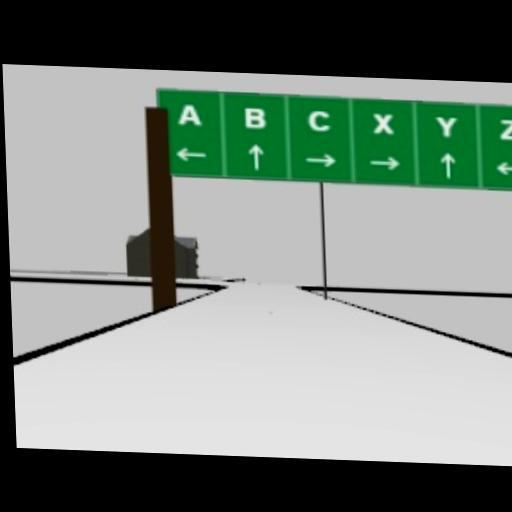A: (176, 103, 202, 125)
B: (244, 106, 266, 128)
C: (306, 109, 330, 131)
Left: (174, 147, 207, 162), (492, 160, 512, 175)
Right: (368, 155, 401, 171), (304, 152, 337, 167)
Straight: (247, 142, 264, 170), (439, 152, 456, 177)
X: (372, 111, 394, 133)
Y: (434, 113, 458, 137)
Z: (498, 118, 512, 139)
